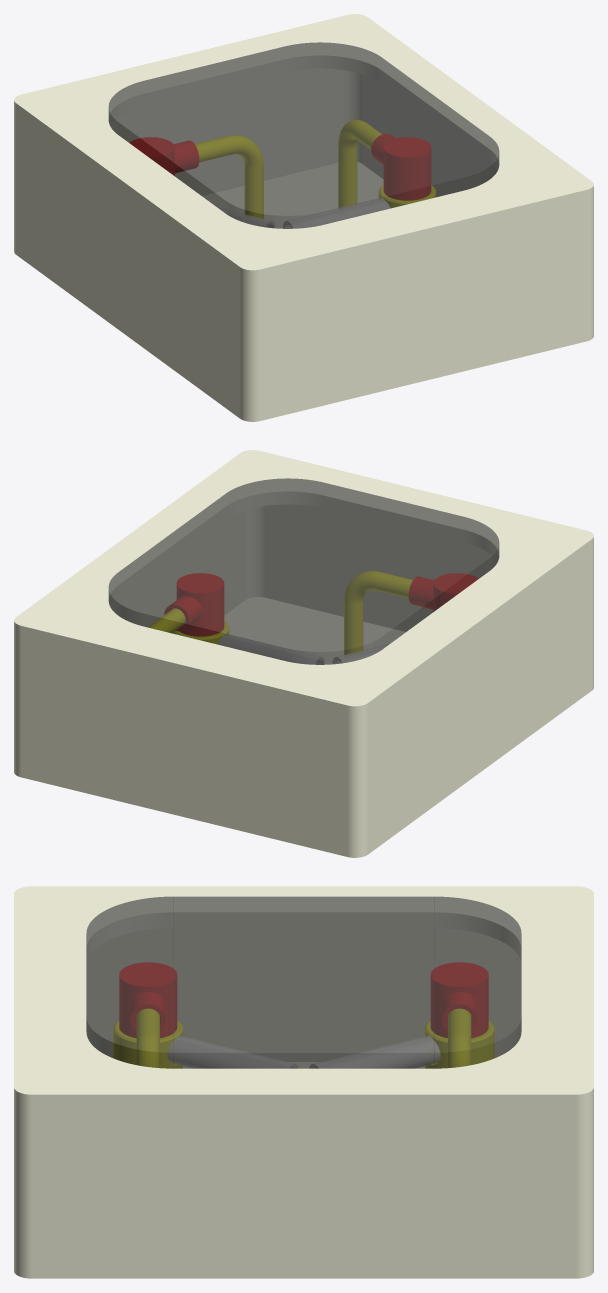
3 views of the same model, one above another, from view 1: azimuth 30°, elevation 25°; view 2: azimuth 150°, elevation 25°; view 3: azimuth 270°, elevation 25° (orthographic). The views are drawn at different scales.
Parts seen in each view (by area): view 1: out.box.back, out.box.cover, out.box.seal, out.fluxcap.electrode_000.plug, out.fluxcap.electrode_001.pipe, out.fluxcap.electrode_000.pipe, out.fluxcap.electrode_001.plug, out.fluxcap.electrode_000.electrode; view 2: out.box.back, out.box.cover, out.box.seal, out.fluxcap.electrode_000.plug, out.fluxcap.electrode_002.pipe, out.fluxcap.electrode_002.plug, out.fluxcap.electrode_000.electrode, out.fluxcap.electrode_000.pipe; view 3: out.box.back, out.box.cover, out.box.seal, out.fluxcap.electrode_001.plug, out.fluxcap.electrode_002.plug, out.fluxcap.electrode_001.electrode, out.fluxcap.electrode_002.electrode, out.fluxcap.electrode_001.pipe, out.fluxcap.electrode_002.pipe, out.fluxcap.electrode_001.base, out.fluxcap.electrode_002.base.
Part boxes in pixels (x1,y1,x2,y2): out.box.back: (14,69,593,421); out.box.cover: (14,14,593,313); out.box.seal: (108,42,499,228); out.fluxcap.electrode_000.plug: (371,134,430,200); out.fluxcap.electrode_001.pipe: (195,135,263,218); out.fluxcap.electrode_000.pipe: (338,120,381,207); out.fluxcap.electrode_001.plug: (130,137,198,175); out.fluxcap.electrode_000.electrode: (283,198,389,228); out.box.back: (14,505,593,857); out.box.cover: (14,450,593,749); out.box.seal: (108,478,499,664); out.fluxcap.electrode_000.plug: (164,573,223,636); out.fluxcap.electrode_002.pipe: (344,571,412,654); out.fluxcap.electrode_002.plug: (409,573,477,611); out.fluxcap.electrode_000.electrode: (218,634,324,664); out.fluxcap.electrode_000.pipe: (148,608,185,632); out.box.back: (14,946,593,1278); out.box.cover: (14,886,593,1147); out.box.seal: (86,896,521,1068); out.fluxcap.electrode_001.plug: (431,962,488,1037); out.fluxcap.electrode_002.plug: (119,962,176,1037); out.fluxcap.electrode_001.electrode: (309,1036,440,1068); out.fluxcap.electrode_002.electrode: (167,1036,298,1068); out.fluxcap.electrode_001.pipe: (448,1009,470,1067); out.fluxcap.electrode_002.pipe: (137,1009,159,1067); out.fluxcap.electrode_001.base: (425,1021,494,1068); out.fluxcap.electrode_002.base: (113,1021,182,1068).
Bounding box in the file's own units: 0.085 × 0.038 × 0.1.
